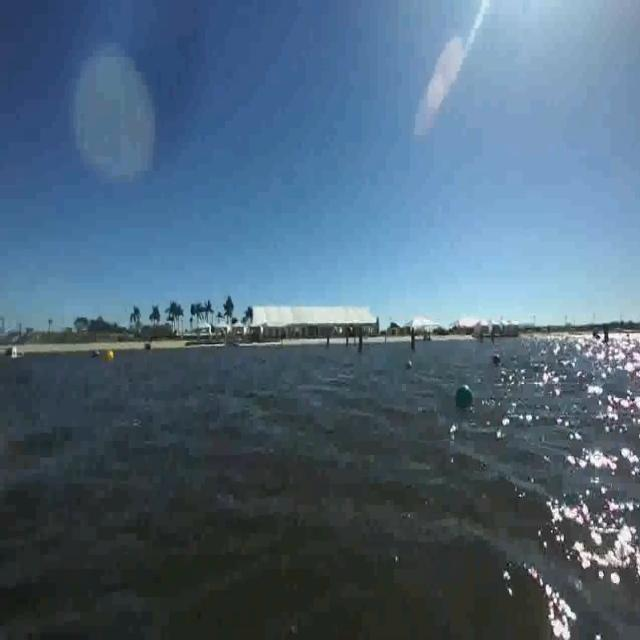green-buoy: (457, 382, 476, 406)
